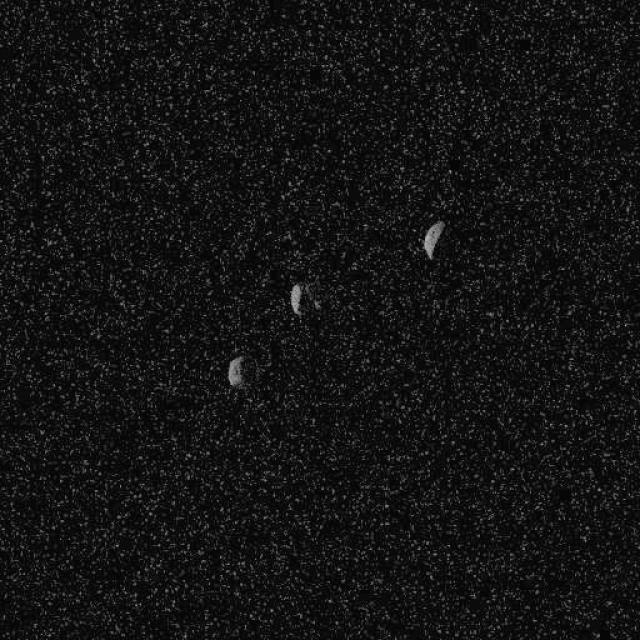D2: (421, 219, 445, 260), (226, 355, 245, 386), (288, 282, 302, 316)
